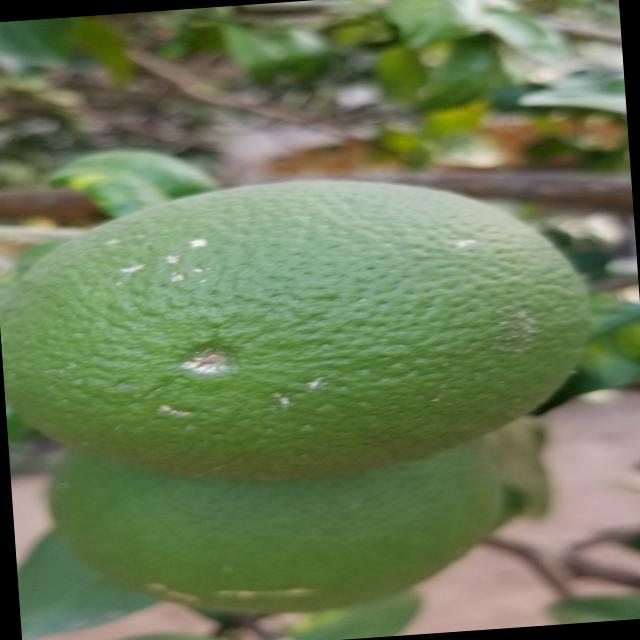Unripe: (0, 163, 598, 497), (51, 420, 519, 630)
